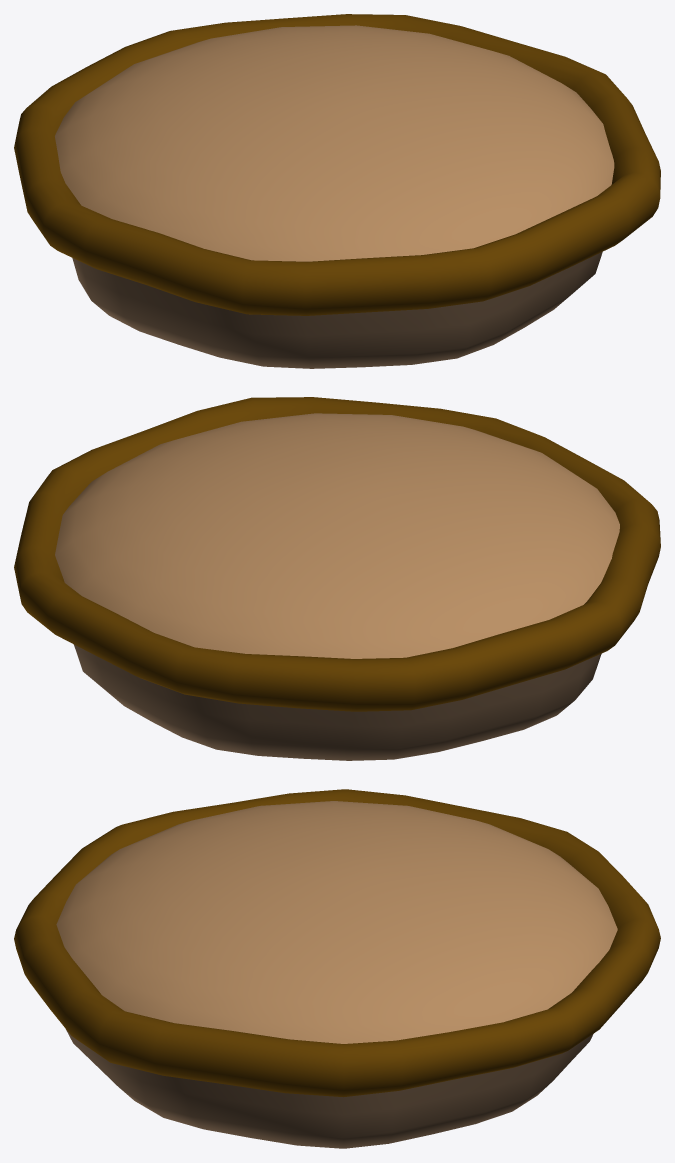
File: Pie_Constructed.fbx
3 renders of one model, top to bottom at view 1: azimuth 30°, elevation 25°; view 2: azimuth 150°, elevation 25°; view 3: azimuth 270°, elevation 25°, orthographic.
Parts seen in each view (by area): view 1: Lid_Smooth, Crust_Smooth, Base_Smooth; view 2: Lid_Smooth, Crust_Smooth, Base_Smooth; view 3: Lid_Smooth, Crust_Smooth, Base_Smooth.
Part boxes in pixels (x1,y1,x2,y2): Lid_Smooth: (55,25,614,261); Crust_Smooth: (14,14,660,315); Base_Smooth: (72,252,602,368); Lid_Smooth: (55,413,619,658); Crust_Smooth: (14,397,660,711); Base_Smooth: (74,644,601,760); Lid_Smooth: (56,801,617,1043); Crust_Smooth: (14,789,660,1097); Base_Smooth: (66,1029,593,1148).
Size of the model in its own units: 241 by 74.75 by 238.
